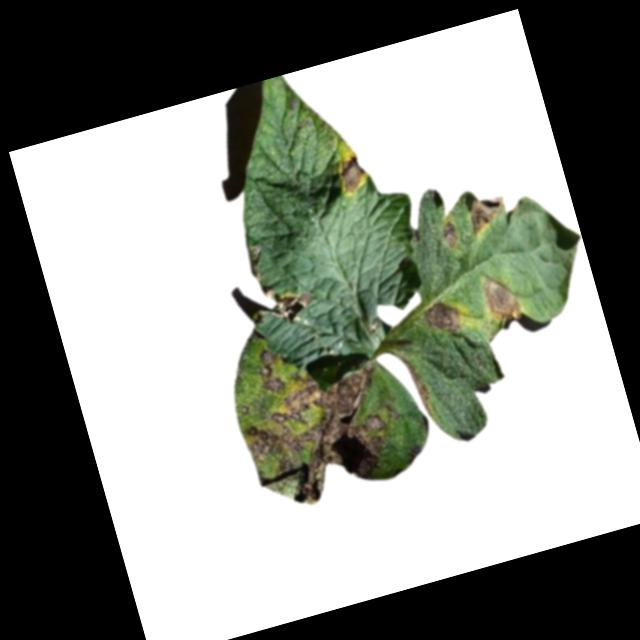Early_blight: (232, 361, 413, 517), (477, 264, 527, 331), (266, 277, 317, 327), (463, 192, 514, 238), (401, 352, 436, 419), (421, 296, 467, 340), (333, 149, 372, 196), (253, 344, 287, 393), (438, 215, 463, 247)
